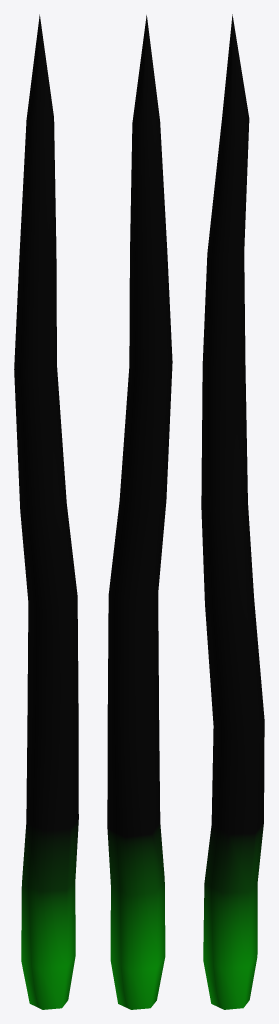
The model's file is SM_Collision_BirchTree3.fbx.
3 renders of one model, left to right at view 1: azimuth 30°, elevation 25°; view 2: azimuth 210°, elevation 25°; view 3: azimuth 330°, elevation 25°, orthographic.
Parts seen in each view (by area): view 1: Collision_BirchTree3; view 2: Collision_BirchTree3; view 3: Collision_BirchTree3.
Boxes of the visible parts, bbox=[...] form: Collision_BirchTree3: bbox=[14, 14, 78, 1009]; Collision_BirchTree3: bbox=[107, 15, 172, 1009]; Collision_BirchTree3: bbox=[201, 14, 264, 1009].
Size of the model in its own units: 117 by 109 by 1987.
